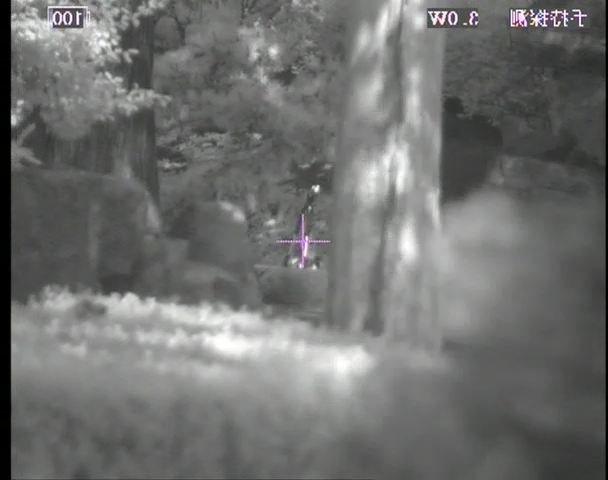my: (311, 184, 320, 193)
